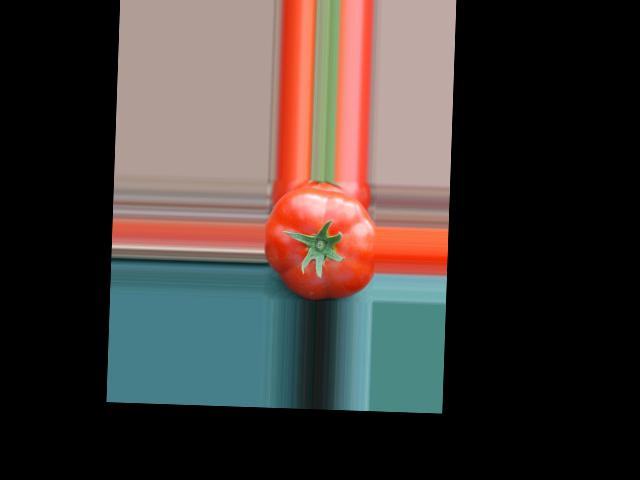tomato: (261, 186, 377, 301)
